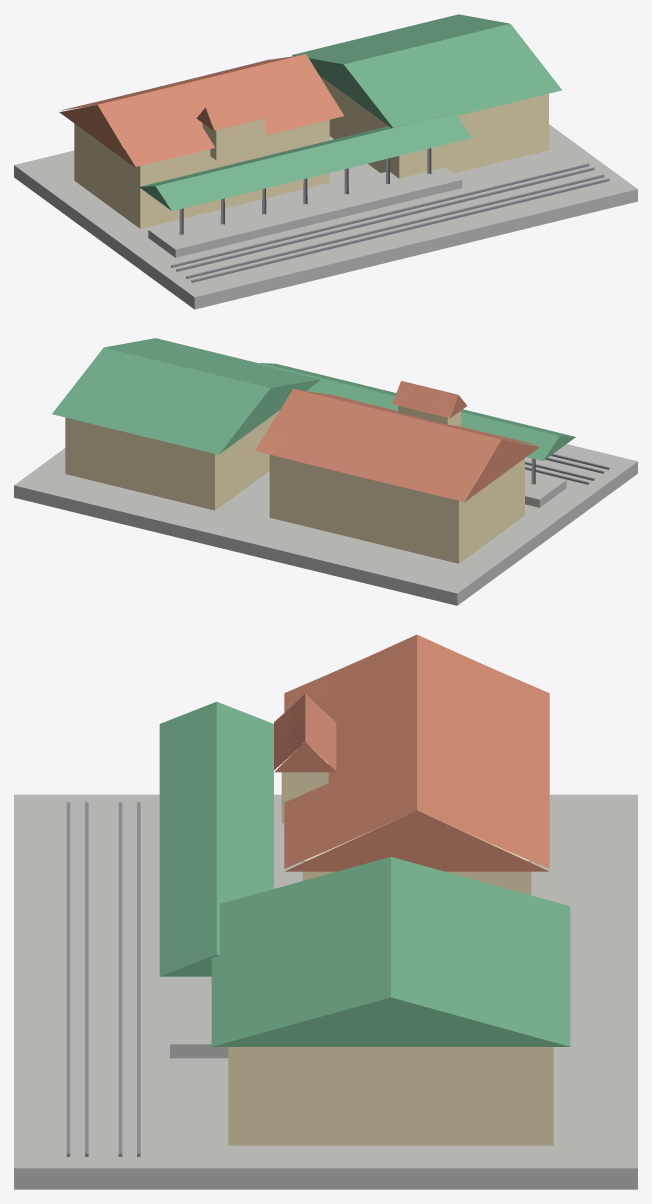
Rendered from lm_85_cho_nong_san_trai_mat_and_cog_railway_depot.glb.
3 views of the same model, one above another, from view 1: azimuth 30°, elevation 25°; view 2: azimuth 150°, elevation 25°; view 3: azimuth 270°, elevation 25° (orthographic). The views are drawn at different scales.
Parts seen in each view (by area): view 1: lm_85_cho_nong_san_trai_mat_and_cog_railway_depot; view 2: lm_85_cho_nong_san_trai_mat_and_cog_railway_depot; view 3: lm_85_cho_nong_san_trai_mat_and_cog_railway_depot.
Part boxes in pixels (x1,y1,x2,y2): lm_85_cho_nong_san_trai_mat_and_cog_railway_depot: [14, 14, 637, 309]; lm_85_cho_nong_san_trai_mat_and_cog_railway_depot: [14, 338, 637, 605]; lm_85_cho_nong_san_trai_mat_and_cog_railway_depot: [14, 634, 637, 1189].
Bounding box in the file's own units: 34 × 8.6 × 24.
